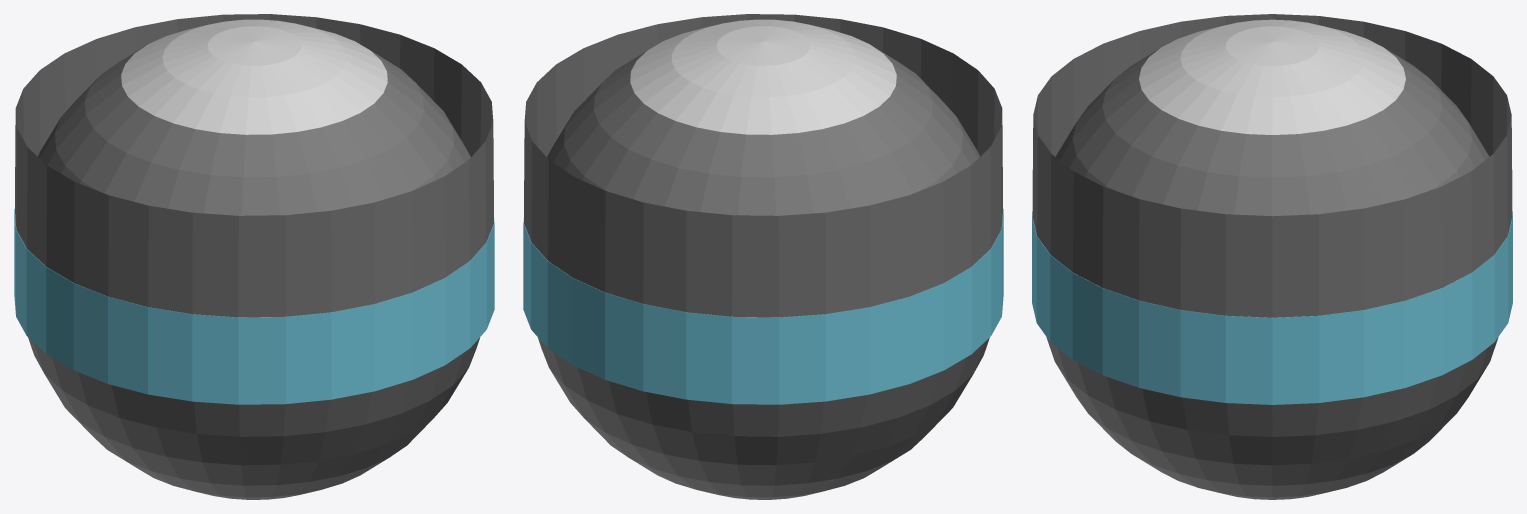
The picture shows the model from 3 angles, left to right: view 1: azimuth 30°, elevation 25°; view 2: azimuth 150°, elevation 25°; view 3: azimuth 270°, elevation 25°; orthographic projection.
Visible parts, largest first — view 1: Sphere; view 2: Sphere; view 3: Sphere.
Part boxes in pixels (box(x1,y1,x2,y2)): Sphere: box(14, 14, 494, 499); Sphere: box(523, 14, 1003, 499); Sphere: box(1032, 14, 1512, 499).
Size of the model in its own units: 2 by 2 by 2.
